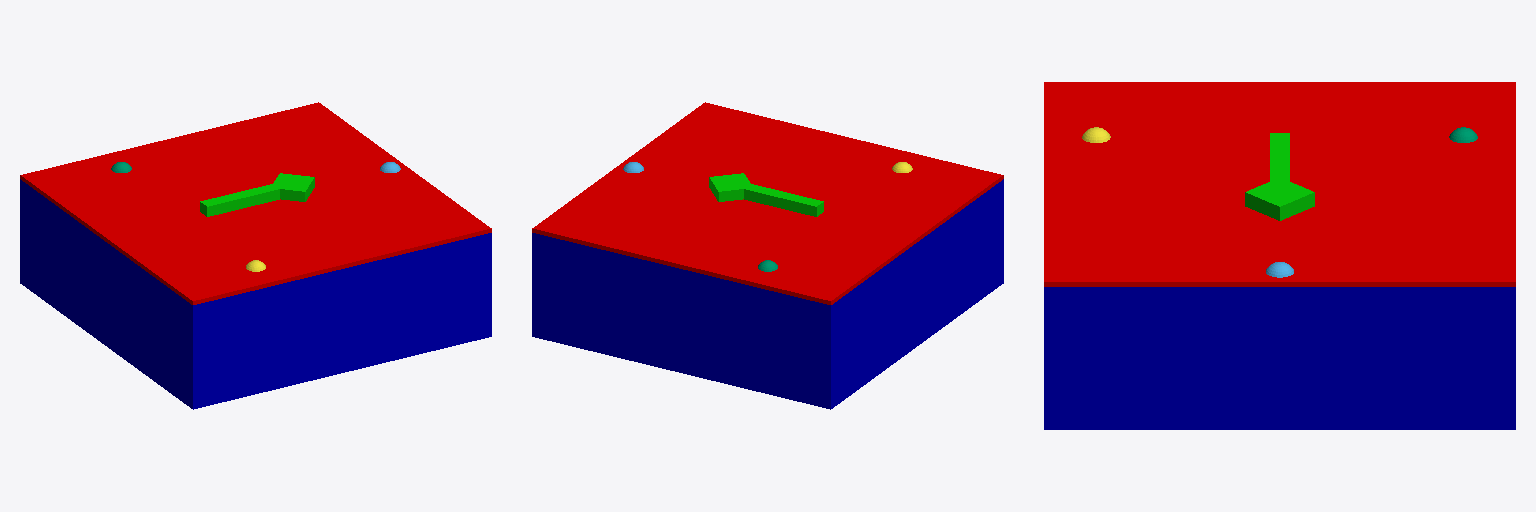
The robot description file, URDF, robot "payload":
<?xml version="1.0"?>
<robot name="payload">

  <properties> 
    mass="1.0" 
    size_x="0.3" 
    size_y="0.3" 
    size_z="0.1"
    drag_coeff_x="-0.019293750000000002" 
    drag_coeff_y="-0.019293750000000002" 
    drag_coeff_z="-0.05788125"
    attachment_points="[[0.135, 0.0], [-0.06749999999999998, 0.11691342951089924], [-0.06750000000000006, -0.11691342951089918]]"
  </properties>

  <material name="payload_body">
    <color rgba="0.0 0.0 0.8 1.0"/>
  </material>
  <material name="payload_panel">
    <color rgba="0.9 0.0 0.0 1.0"/>
  </material>
  <material name="payload_arrow">
    <color rgba="0.05 0.85 0.05 1.0"/>
  </material>

  <link name="payload">

    <inertial>
      <origin xyz="0 0 0" rpy="0 0 0"/>
      <mass value="1.0"/>
      <inertia ixx="0.008333333333333333" ixy="0" ixz="0" iyy="0.008333333333333333" iyz="0" izz="0.015"/>
    </inertial>

    <visual name="body_visual">
      <origin xyz="0 0 0" rpy="0 0 0"/>
      <geometry>
        <box size="0.3 0.3 0.1"/>
      </geometry>
      <material name="payload_body"/>
    </visual>

    <collision>
      <origin xyz="0 0 0" rpy="0 0 0"/>
      <geometry>
        <box size="0.3 0.3 0.1"/>
      </geometry>
    </collision>

    <!-- Top panel: background plate for the direction arrow -->
    <visual name="top_panel_visual">
      <origin xyz="0 0 0.052000000000000005" rpy="0 0 0"/>
      <geometry>
        <box size="0.3 0.3 0.004"/>
      </geometry>
      <material name="payload_panel"/>
    </visual>

    <!-- Arrow shaft, pointing toward +x -->
    <visual name="arrow_shaft_visual">
      <origin xyz="-0.01575 0 0.059000000000000004" rpy="0 0 0"/>
      <geometry>
        <box size="0.0735 0.012599999999999998 0.01"/>
      </geometry>
      <material name="payload_arrow"/>
    </visual>

    <!-- Arrow head: square box rotated 45 deg into a diamond, tip pointing toward +x -->
    <visual name="arrow_head_visual">
      <origin xyz="0.03675 0 0.059000000000000004" rpy="0 0 0.785398"/>
      <geometry>
        <box size="0.0315 0.0315 0.01"/>
      </geometry>
      <material name="payload_arrow"/>
    </visual>

  </link>

  <link name="attach_0">
    <visual>
      <geometry><sphere radius="0.01"/></geometry>
      <material name="payload_planel"/>
    </visual>
  </link>
  <joint name="attach_0_joint" type="fixed">
    <parent link="payload"/>
    <child link="attach_0"/>
    <origin xyz="0.135 0.0 0.05" rpy="0 0 0"/>
  </joint>
  <link name="attach_1">
    <visual>
      <geometry><sphere radius="0.01"/></geometry>
      <material name="payload_planel"/>
    </visual>
  </link>
  <joint name="attach_1_joint" type="fixed">
    <parent link="payload"/>
    <child link="attach_1"/>
    <origin xyz="-0.06749999999999998 0.11691342951089924 0.05" rpy="0 0 0"/>
  </joint>
  <link name="attach_2">
    <visual>
      <geometry><sphere radius="0.01"/></geometry>
      <material name="payload_planel"/>
    </visual>
  </link>
  <joint name="attach_2_joint" type="fixed">
    <parent link="payload"/>
    <child link="attach_2"/>
    <origin xyz="-0.06750000000000006 -0.11691342951089918 0.05" rpy="0 0 0"/>
  </joint>

</robot>

--- Facts derived from the render (not from the file) ---
The picture shows the robot from 3 angles, left to right: view 1: azimuth 30°, elevation 25°; view 2: azimuth 150°, elevation 25°; view 3: azimuth 270°, elevation 25°; orthographic projection.
Model payload with 4 links and 3 joints (3 fixed), rooted at payload, posed every joint at zero.
Links seen in each view (by area): view 1: payload; view 2: payload; view 3: payload.
Link boxes in pixels (x1,y1,x2,y2): payload: (20,102,491,409); payload: (532,102,1003,409); payload: (1044,82,1515,429).
Bounding box of the posed robot: 0.3 × 0.3 × 0.114 m (x, y, z).
Geometry: primitives only (box / cylinder / sphere), no mesh files.
